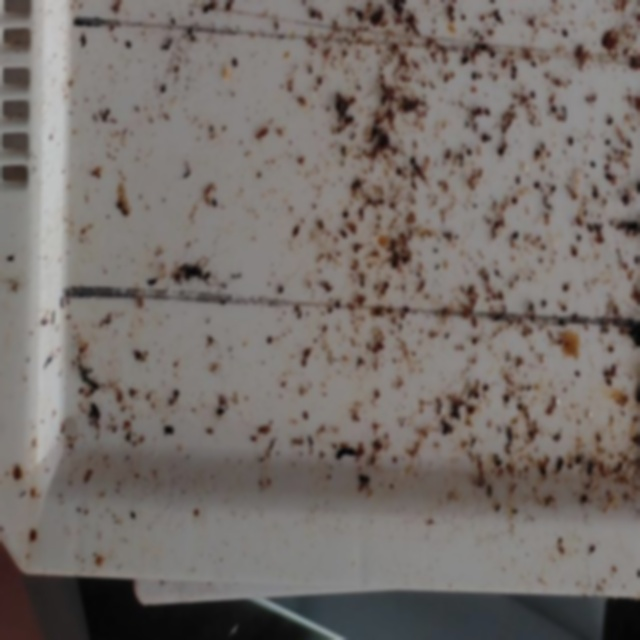varroa: (232, 52, 241, 69), (160, 80, 170, 92), (293, 221, 301, 236), (341, 141, 349, 156), (512, 226, 522, 238), (212, 194, 220, 208), (217, 405, 227, 416), (589, 543, 599, 554), (574, 366, 582, 379), (581, 489, 589, 502), (173, 384, 181, 396), (342, 205, 350, 217), (410, 153, 418, 165), (483, 380, 491, 392), (575, 453, 583, 465), (403, 303, 412, 313), (278, 282, 286, 293), (304, 346, 312, 357), (540, 464, 548, 475), (335, 296, 342, 308), (472, 121, 479, 133), (559, 543, 566, 555), (568, 134, 575, 146), (126, 37, 134, 47), (489, 46, 497, 56), (466, 145, 474, 155), (562, 281, 570, 291), (267, 333, 274, 344), (497, 144, 504, 155), (591, 157, 598, 168), (534, 179, 541, 190), (516, 172, 522, 184), (531, 58, 539, 67), (170, 15, 177, 25), (494, 5, 501, 15), (512, 193, 519, 203), (533, 146, 540, 156), (563, 26, 570, 36), (304, 408, 310, 419), (494, 267, 500, 278), (463, 54, 471, 62), (480, 41, 488, 49), (550, 183, 558, 191), (356, 7, 363, 16), (460, 10, 467, 19), (605, 171, 612, 180), (551, 103, 558, 112), (485, 105, 491, 115), (593, 188, 599, 198), (512, 70, 518, 80), (496, 15, 503, 23), (606, 377, 613, 385), (531, 89, 538, 97), (479, 104, 484, 115), (474, 390, 480, 399), (609, 343, 615, 352), (607, 114, 613, 123), (303, 357, 308, 367), (472, 70, 477, 80), (605, 368, 610, 378), (511, 64, 519, 70), (542, 298, 548, 306), (606, 137, 612, 144), (612, 364, 617, 372), (562, 303, 567, 310)
